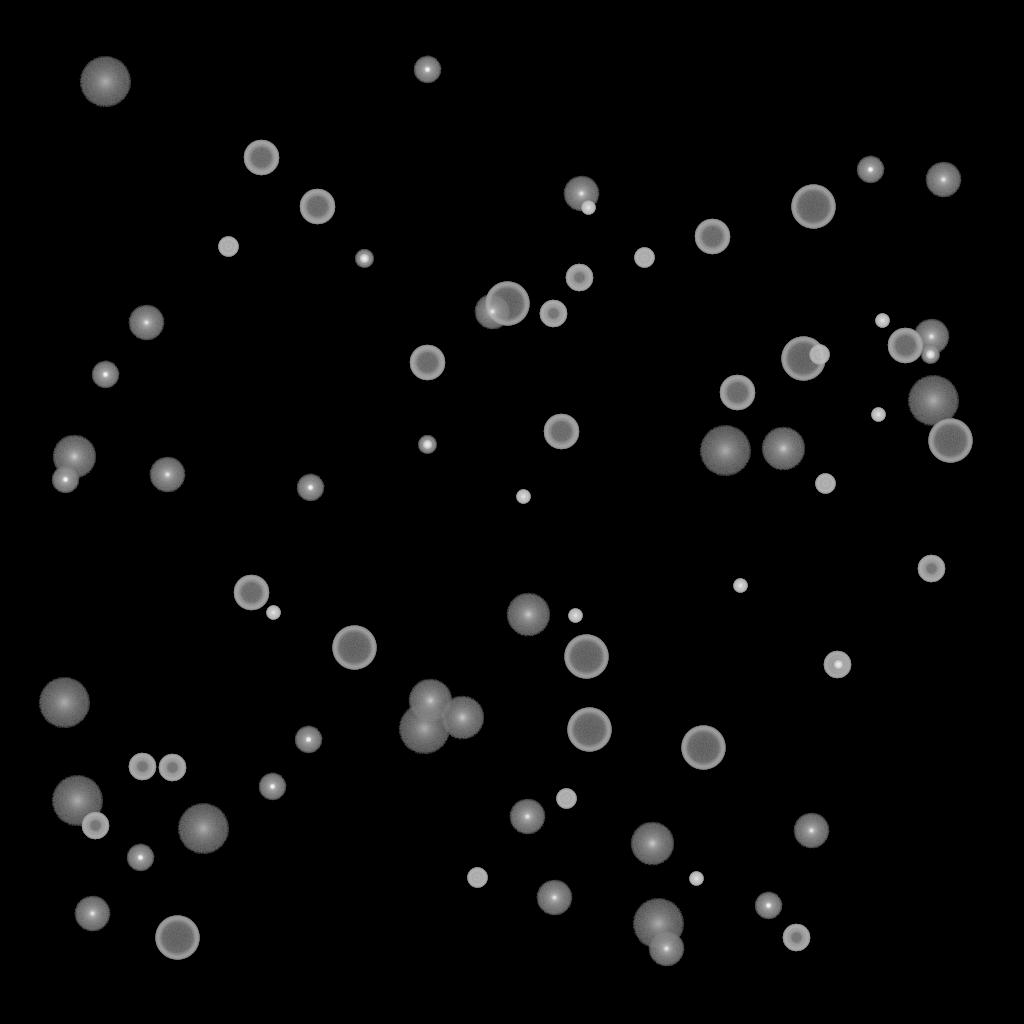depth:-10: (296, 474, 324, 502), (413, 56, 441, 84), (856, 156, 884, 184), (258, 773, 286, 801), (126, 844, 154, 872), (294, 726, 322, 754), (754, 892, 782, 920), (51, 466, 79, 494), (91, 361, 119, 389)
depth:-20: (921, 346, 939, 364), (829, 656, 847, 674), (355, 250, 373, 268), (418, 436, 436, 454)
depth:-30: (568, 609, 582, 623), (871, 408, 885, 422), (516, 490, 530, 504), (581, 201, 595, 215), (266, 606, 280, 620), (689, 872, 703, 886), (733, 579, 747, 593), (875, 314, 889, 328)
depth:-40: (467, 868, 487, 888), (634, 248, 654, 268), (218, 237, 238, 257), (809, 345, 829, 365), (556, 789, 576, 809), (815, 474, 835, 494)
depth:-50: (565, 264, 593, 292), (81, 812, 109, 840), (782, 924, 810, 952), (917, 555, 945, 583), (158, 754, 186, 782), (128, 753, 156, 781), (539, 300, 567, 328), (823, 651, 851, 679)
depth:-60: (299, 189, 335, 225), (409, 345, 445, 381), (543, 414, 579, 450), (887, 328, 923, 364), (694, 219, 730, 255), (243, 140, 279, 176), (719, 375, 755, 411), (233, 575, 269, 611)
depth:-70: (564, 635, 608, 679), (485, 282, 529, 326), (781, 337, 825, 381), (681, 726, 725, 770), (155, 916, 199, 960), (567, 708, 611, 752), (332, 626, 376, 670), (928, 419, 972, 463), (791, 185, 835, 229)
depth:0: (925, 162, 961, 198), (509, 799, 545, 835), (563, 176, 599, 212), (474, 294, 510, 330), (149, 457, 185, 493), (128, 305, 164, 341), (648, 931, 684, 967), (74, 896, 110, 932), (793, 813, 829, 849), (913, 319, 949, 355), (536, 880, 572, 916)
depth:10: (630, 822, 674, 866), (506, 593, 550, 637), (440, 696, 484, 740), (408, 679, 452, 723), (761, 427, 805, 471), (52, 435, 96, 479)
depth:20: (632, 899, 684, 949), (907, 376, 959, 426), (177, 804, 229, 854), (79, 57, 131, 107), (699, 426, 751, 476), (398, 704, 450, 754), (51, 776, 103, 826), (38, 678, 90, 728)
